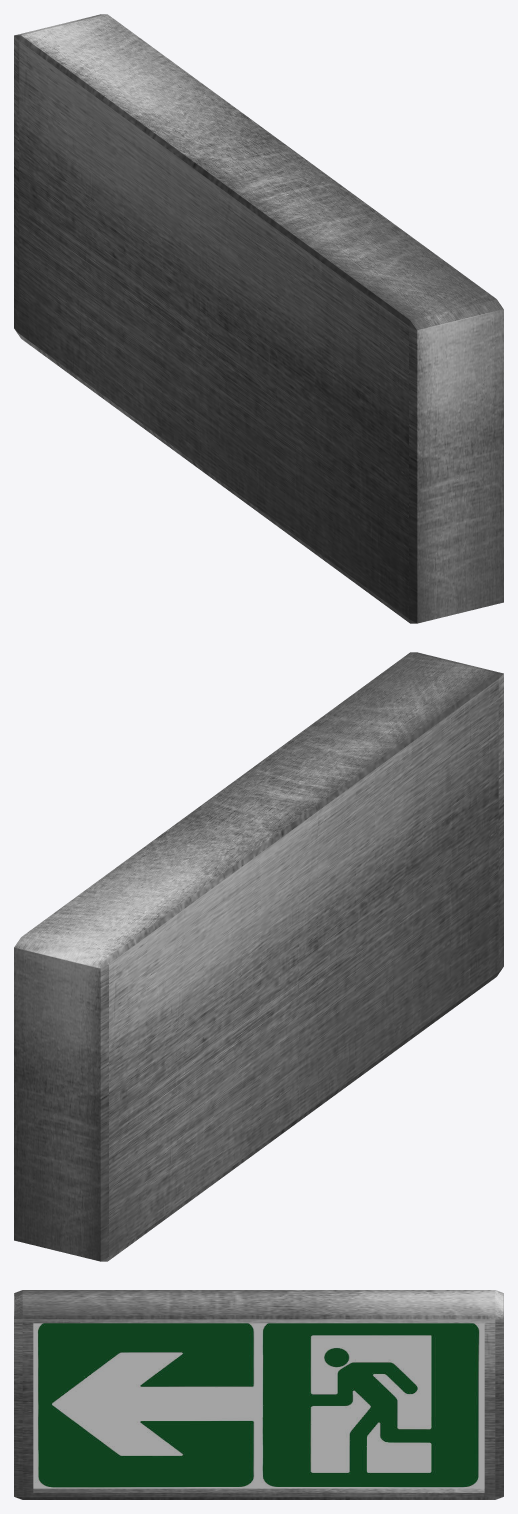
Rendered from exitSign.fbx.
3 renders of one model, top to bottom at view 1: azimuth 30°, elevation 25°; view 2: azimuth 150°, elevation 25°; view 3: azimuth 270°, elevation 25°, orthographic. The views are drawn at different scales.
Parts seen in each view (by area): view 1: Cube; view 2: Cube; view 3: Cube.001, Cube.
Part boxes in pixels (x1,y1,x2,y2): Cube: [14, 14, 503, 623]; Cube: [14, 652, 503, 1261]; Cube.001: [33, 1323, 484, 1488]; Cube: [14, 1290, 503, 1499].
Bounding box in the file's own units: 5.5 × 17.77 × 42.84.
